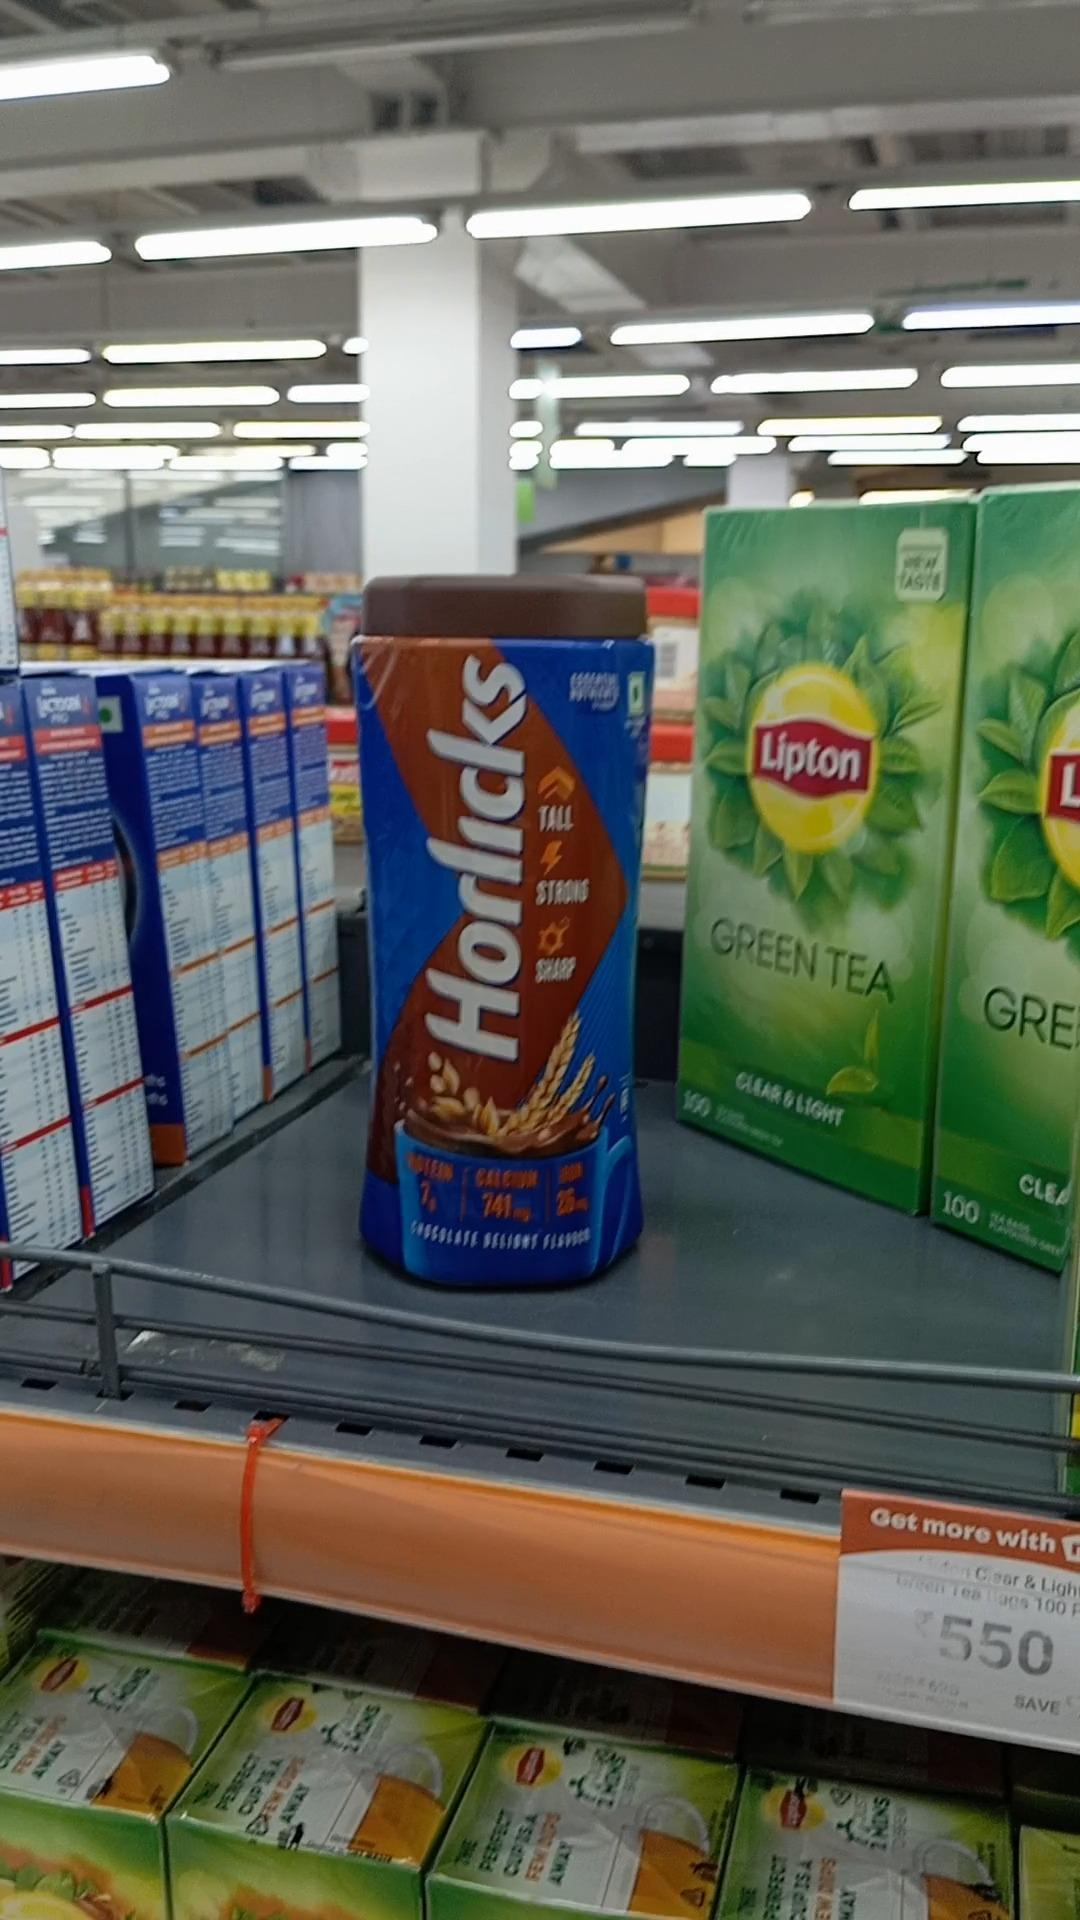HORLICK_CHOCOLATE_1_KG_JAR: (347, 574, 646, 1284)
